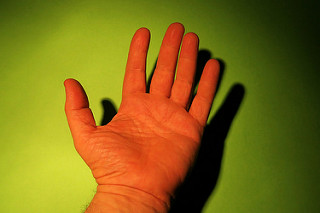palm: (101, 91, 202, 193)
